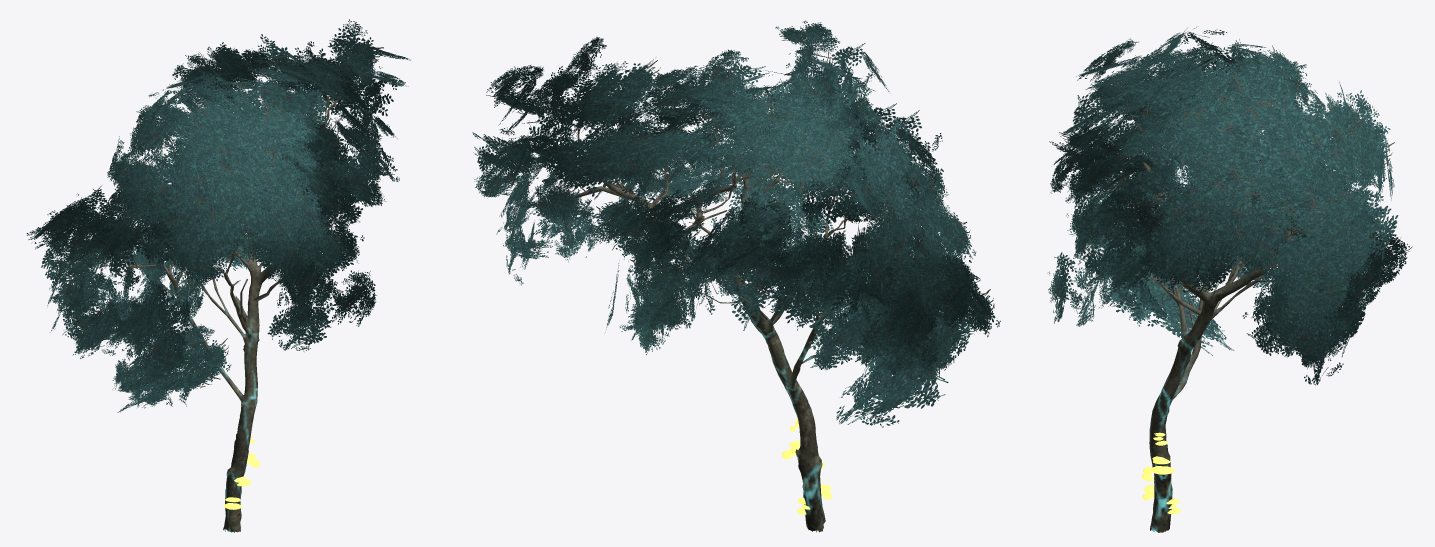
File: Arvore_C.fbx
The picture shows the model from 3 angles, left to right: view 1: azimuth 30°, elevation 25°; view 2: azimuth 150°, elevation 25°; view 3: azimuth 270°, elevation 25°; orthographic projection. The views are drawn at different scales.
Visible parts, largest first — view 1: Arvore_C_LOD0; view 2: Arvore_C_LOD0; view 3: Arvore_C_LOD0.
Boxes of the visible parts, x1,y1,x2,y2 form: Arvore_C_LOD0: (26, 19, 410, 532); Arvore_C_LOD0: (472, 20, 1000, 532); Arvore_C_LOD0: (1047, 27, 1412, 532).
Size of what is drawn, in the model's own units: 12.37 by 12.28 by 8.55.
